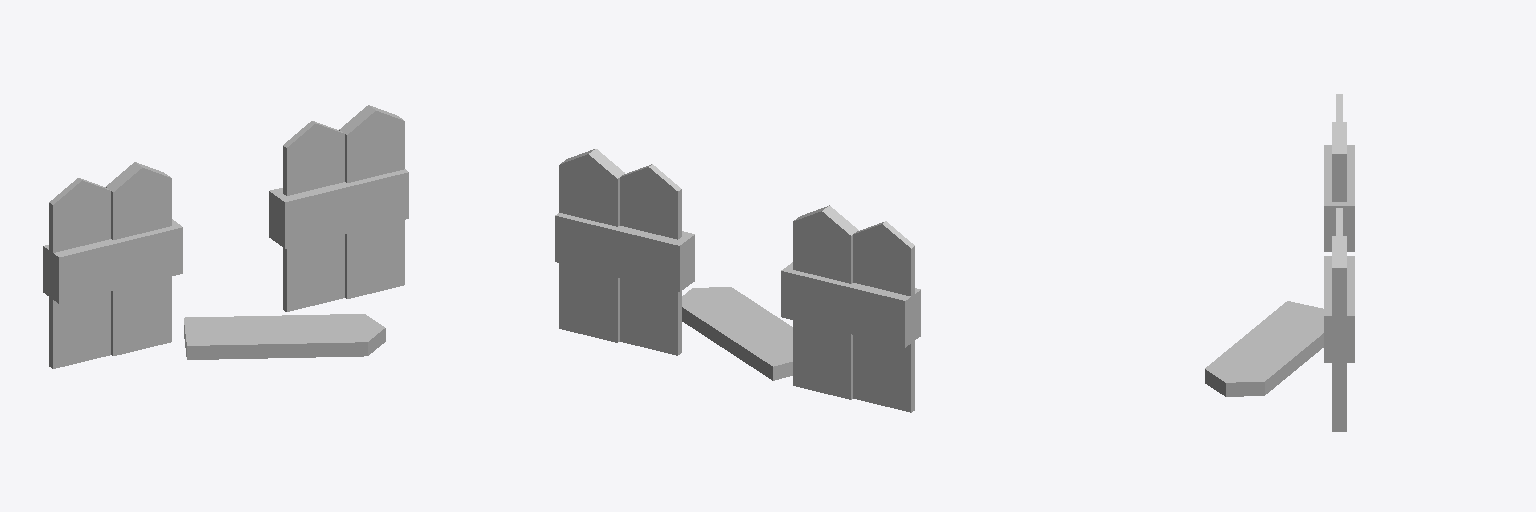
The model's file is fenceBroken.obj.
The picture shows the model from 3 angles: view 1: azimuth 30°, elevation 25°; view 2: azimuth 150°, elevation 25°; view 3: azimuth 270°, elevation 25°; orthographic projection.
Visible parts, largest first — view 1: fenceBroken; view 2: fenceBroken; view 3: fenceBroken.
Part boxes in pixels (left/top/right/bottom): fenceBroken: left=43, top=105, right=408, bottom=368; fenceBroken: left=555, top=149, right=920, bottom=412; fenceBroken: left=1205, top=94, right=1354, bottom=431.
Size of the model in its own units: 10 by 4.96 by 3.73.